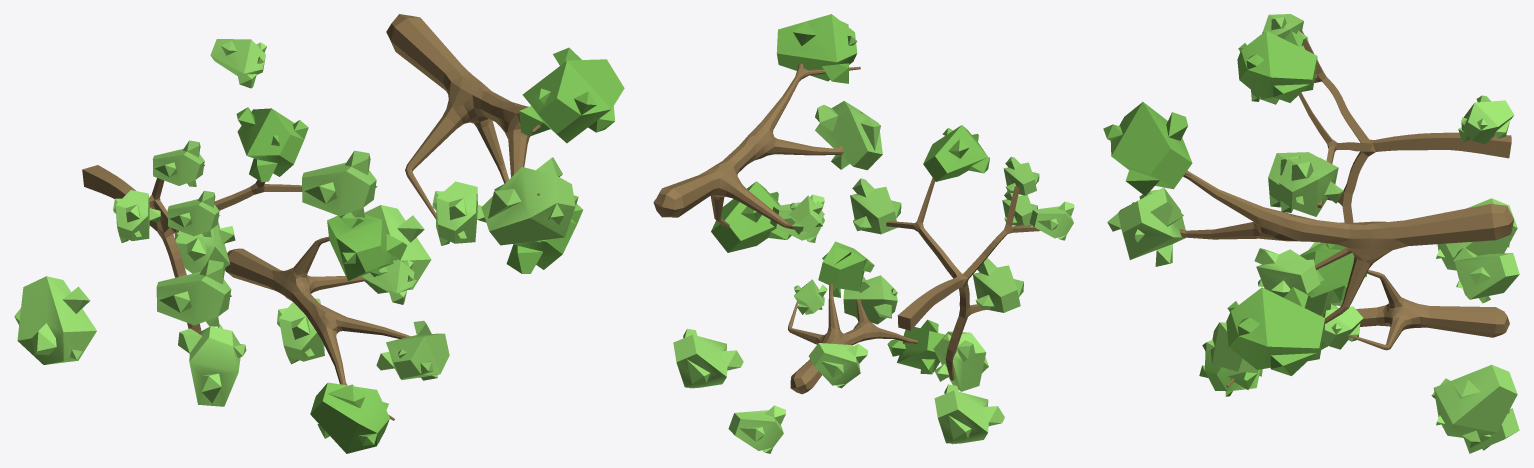
File: trees0.glb
3 renders of one model, left to right at view 1: azimuth 30°, elevation 25°; view 2: azimuth 150°, elevation 25°; view 3: azimuth 270°, elevation 25°, orthographic. The views are drawn at different scales.
Visible parts, largest first — view 1: BranchesCBranchesuBranchesbBrancheseBranches.Branches0Branc. (×20), Empty.019, Empty.056, Plane_Material_002_0.002; view 2: BranchesCBranchesuBranchesbBrancheseBranches.Branches0Branc. (×20), Empty.019, Plane_Material_002_0.002, Empty.056; view 3: BranchesCBranchesuBranchesbBrancheseBranches.Branches0Branc. (×18), Empty.019, Plane_Material_002_0.002, Empty.056.
Boxes of the visible parts, x1,y1,x2,y2 form: BranchesCBranchesuBranchesbBrancheseBranches.Branches0Branc. (×20): [14, 39, 624, 453]; Empty.019: [386, 14, 541, 219]; Empty.056: [225, 236, 420, 420]; Plane_Material_002_0.002: [82, 165, 302, 332]; BranchesCBranchesuBranchesbBrancheseBranches.Branches0Branc. (×20): [673, 14, 1074, 453]; Empty.019: [653, 63, 862, 231]; Plane_Material_002_0.002: [853, 177, 1040, 380]; Empty.056: [788, 283, 917, 394]; BranchesCBranchesuBranchesbBrancheseBranches.Branches0Branc. (×18): [1103, 14, 1519, 453]; Empty.019: [1132, 170, 1513, 324]; Plane_Material_002_0.002: [1298, 30, 1511, 222]; Empty.056: [1226, 270, 1509, 387].
Size of what is drawn, in the model's own units: 2.23 by 1.92 by 1.84.
